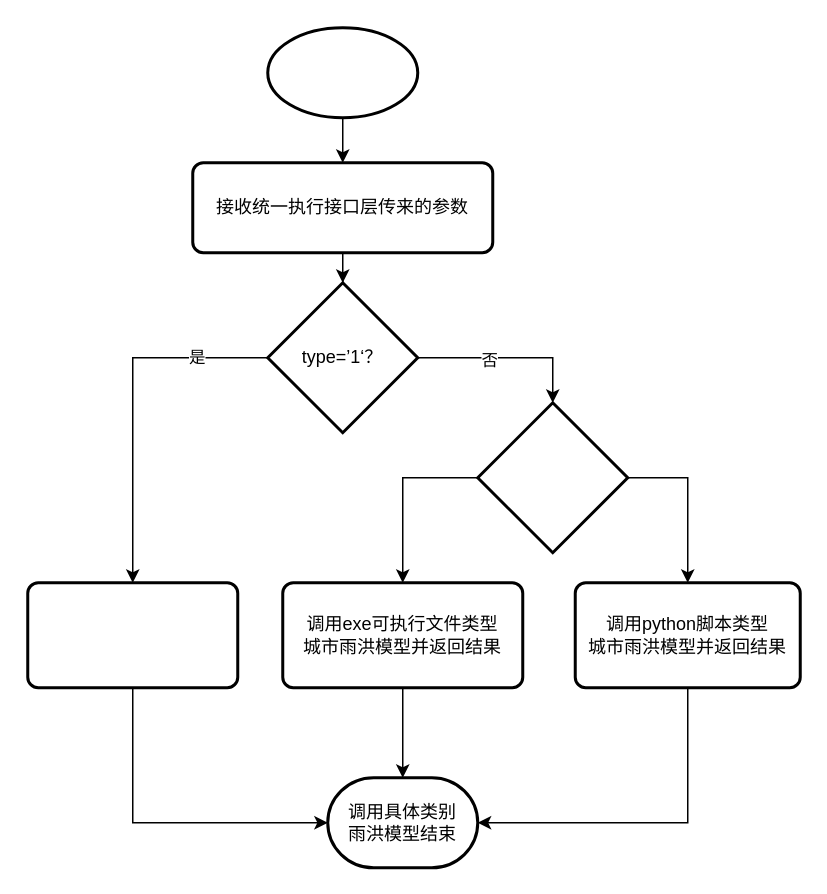
Image size: 827x894. Some labels were removed from this diagram. The shapes that lost their labels are listed below. From the top down, each one's centre as x and y in pixels, then its label:
At pixel 342 72: "开始".
At pixel 552 477: "type=’2‘?".
At pixel 132 634: "调用dll动态链接库类型 城市雨洪模型并返回结果".
